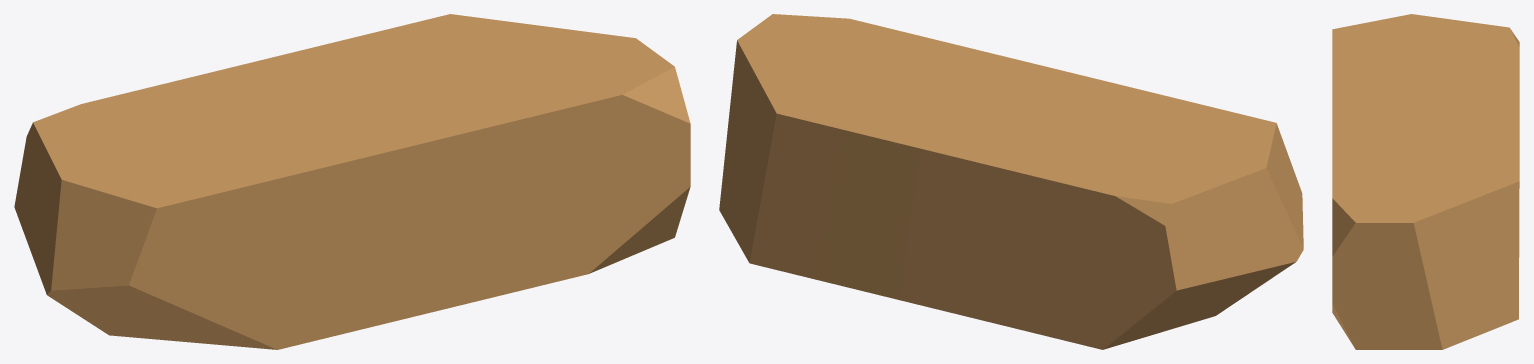
The model's file is egypt_egypt-stone-block.fbx.
3 renders of one model, left to right at view 1: azimuth 30°, elevation 25°; view 2: azimuth 150°, elevation 25°; view 3: azimuth 270°, elevation 25°, orthographic. The views are drawn at different scales.
Parts seen in each view (by area): view 1: egypt_egypt_stone_block; view 2: egypt_egypt_stone_block; view 3: egypt_egypt_stone_block.
Boxes of the visible parts, x1=… form: egypt_egypt_stone_block: x1=14, y1=14, x2=690, y2=349; egypt_egypt_stone_block: x1=719, y1=14, x2=1303, y2=349; egypt_egypt_stone_block: x1=1332, y1=14, x2=1519, y2=349.
Size of the model in its own units: 200 by 54.36 by 72.48.
